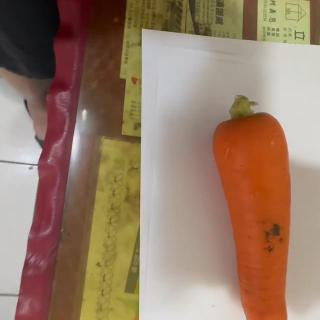carrot: (211, 93, 292, 320)
